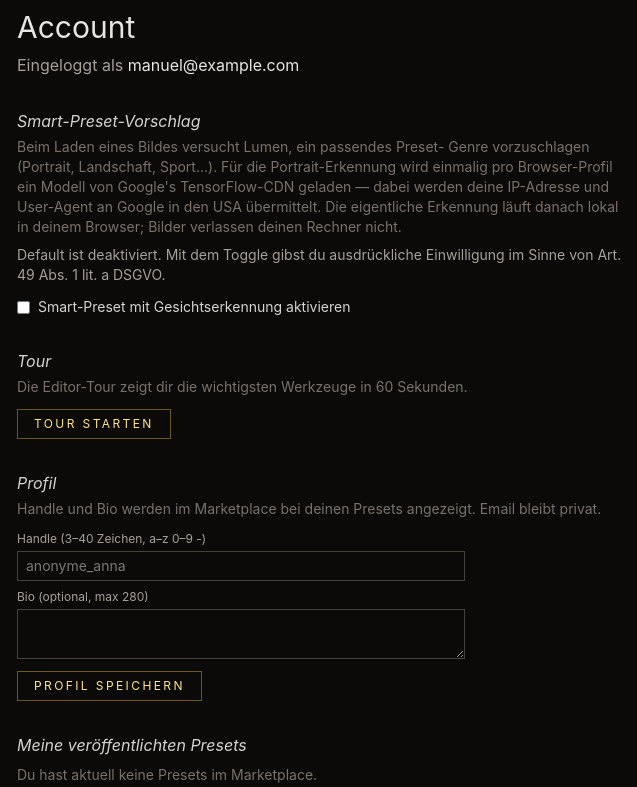
Account › Profil-Save 422 zeigt Format-Hinweis
The image size is (637, 787).
Type "Anna " into the field with test id "account-handle". click: coordinates (241, 566)
box: [17,551,465,581]
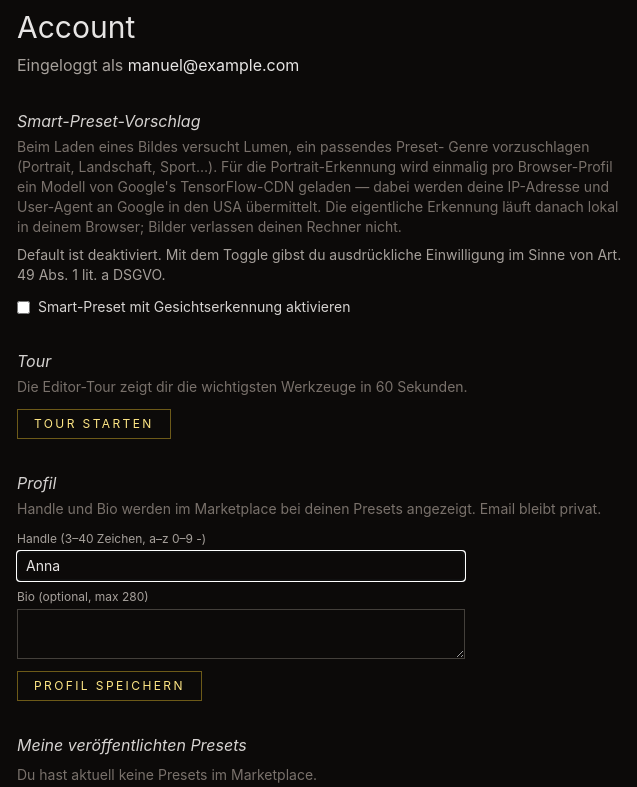
Click the button with test id "account-profile-save". click: coordinates (109, 686)
box: [17,671,202,701]
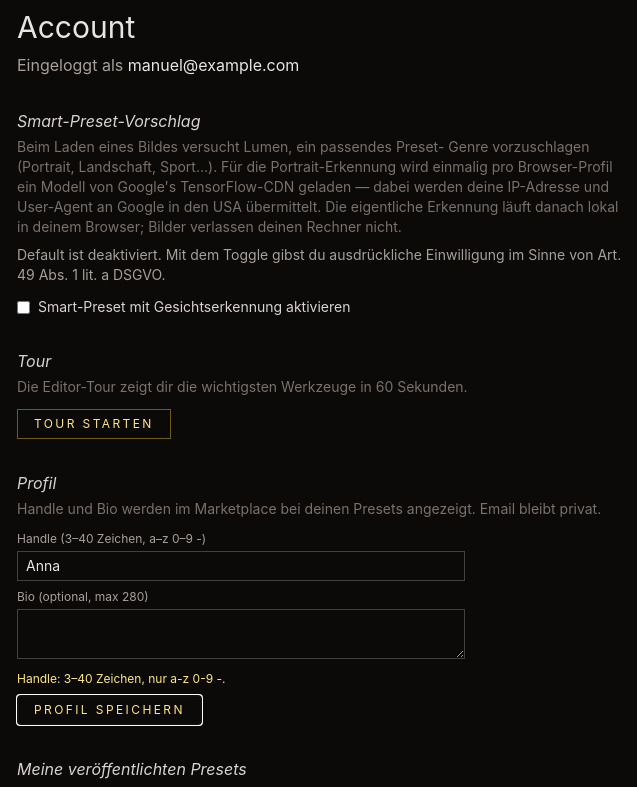
Expected: the text with test id "account-profile-feedback" reads "Handle: 3–40 Zeichen, nur a-z 0-9 -.", [17,671,226,686]
